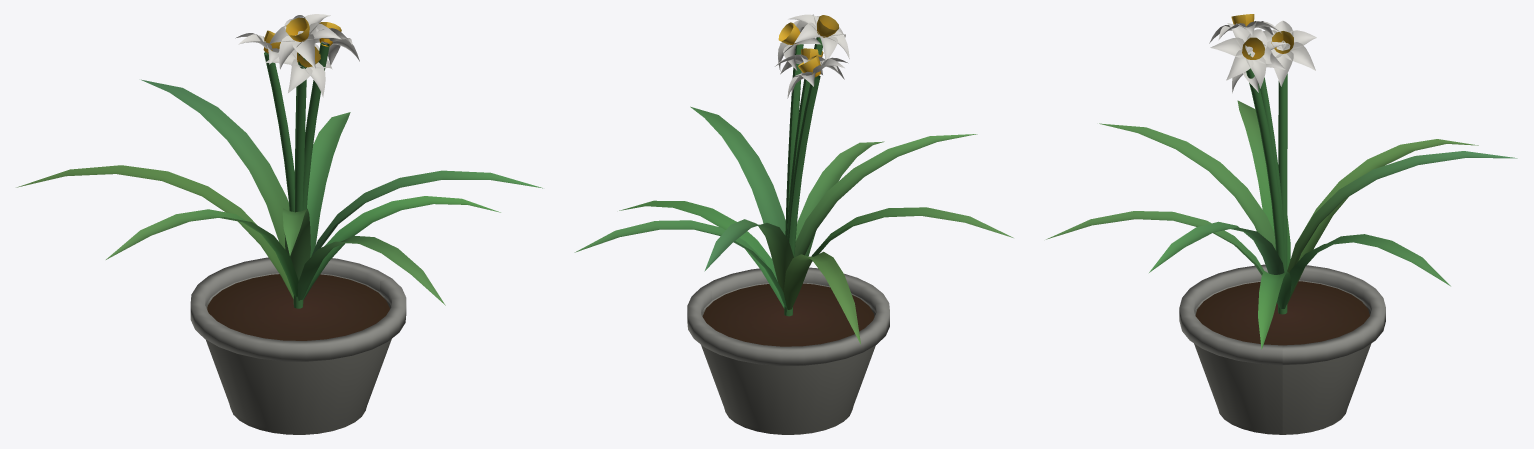
File: narciso.glb
3 views of the same model, side by side, from view 1: azimuth 30°, elevation 25°; view 2: azimuth 150°, elevation 25°; view 3: azimuth 270°, elevation 25° (orthographic). The views are drawn at different scales.
Parts seen in each view (by area): view 1: narciso; view 2: narciso; view 3: narciso.
Boxes of the visible parts, x1=… form: narciso: x1=16, y1=14, x2=542, y2=434; narciso: x1=574, y1=14, x2=1013, y2=434; narciso: x1=1046, y1=14, x2=1517, y2=434.
Bounding box in the file's own units: 0.3484 × 0.3286 × 0.3661.
